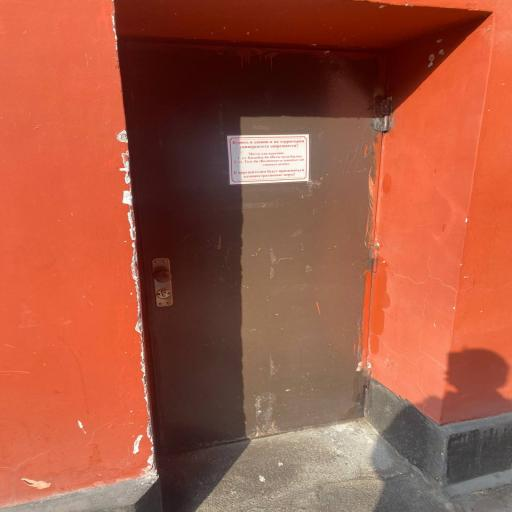corridor: (120, 42, 383, 461)
